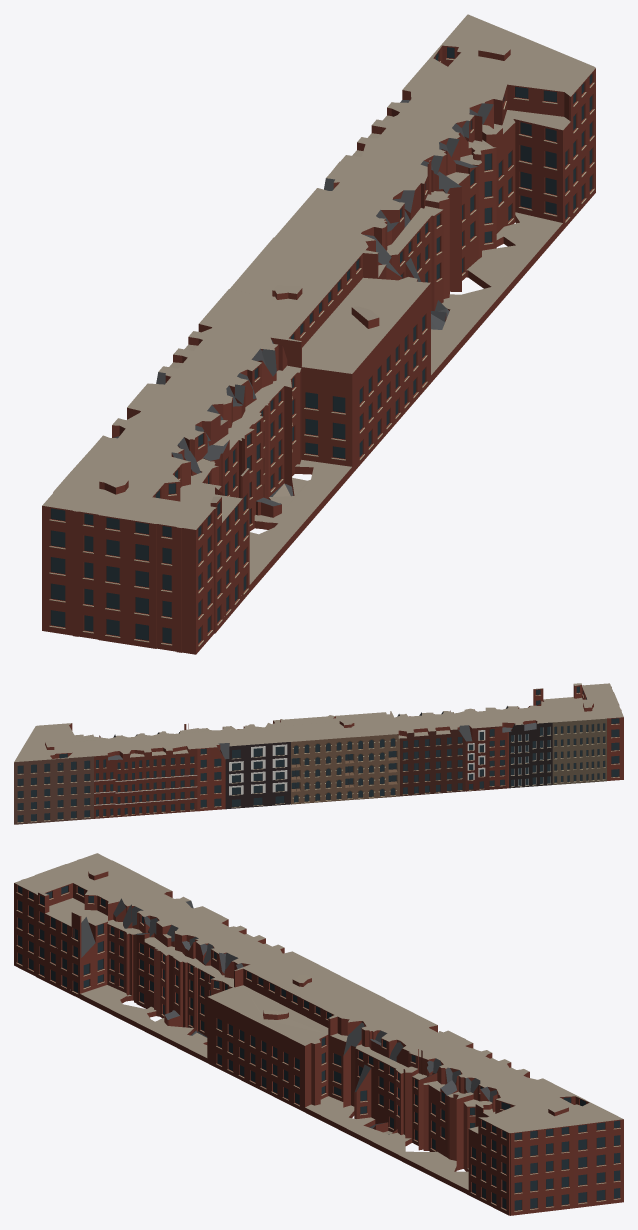
Rendered from recipe-large-wiborgeiland-249707.glb.
The picture shows the model from 3 angles, top to bottom: view 1: azimuth 30°, elevation 25°; view 2: azimuth 150°, elevation 25°; view 3: azimuth 270°, elevation 25°; orthographic projection. The views are drawn at different scales.
Parts seen in each view (by area): view 1: wiborgeiland-249707; view 2: wiborgeiland-249707; view 3: wiborgeiland-249707.
Part boxes in pixels (x1,y1,x2,y2): wiborgeiland-249707: (42, 14, 595, 654); wiborgeiland-249707: (14, 683, 623, 824); wiborgeiland-249707: (14, 853, 623, 1215).
Size of the model in its own units: 122 by 18.41 by 112.
